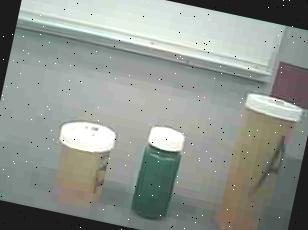Bottle A: (205, 85, 308, 230)
Bottle B: (40, 110, 129, 216)
Bottle C: (128, 117, 196, 224)
